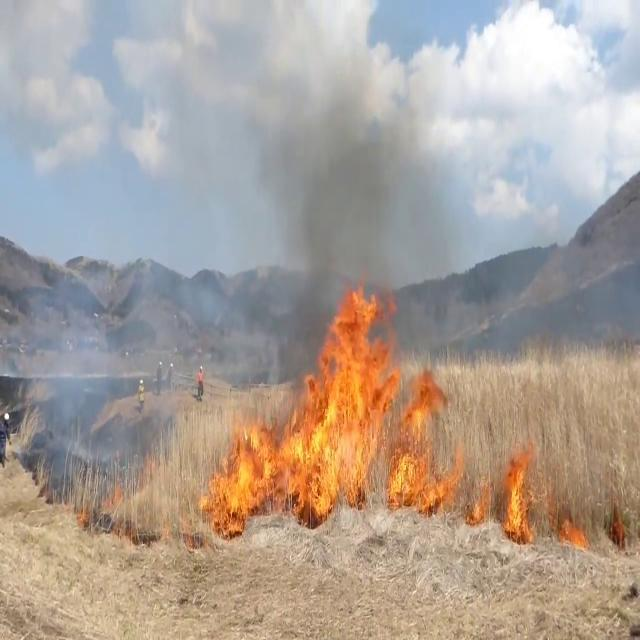Fire: (200, 278, 452, 517), (500, 443, 536, 543), (557, 512, 591, 552)
Smoke: (203, 50, 453, 368), (9, 258, 160, 496)
